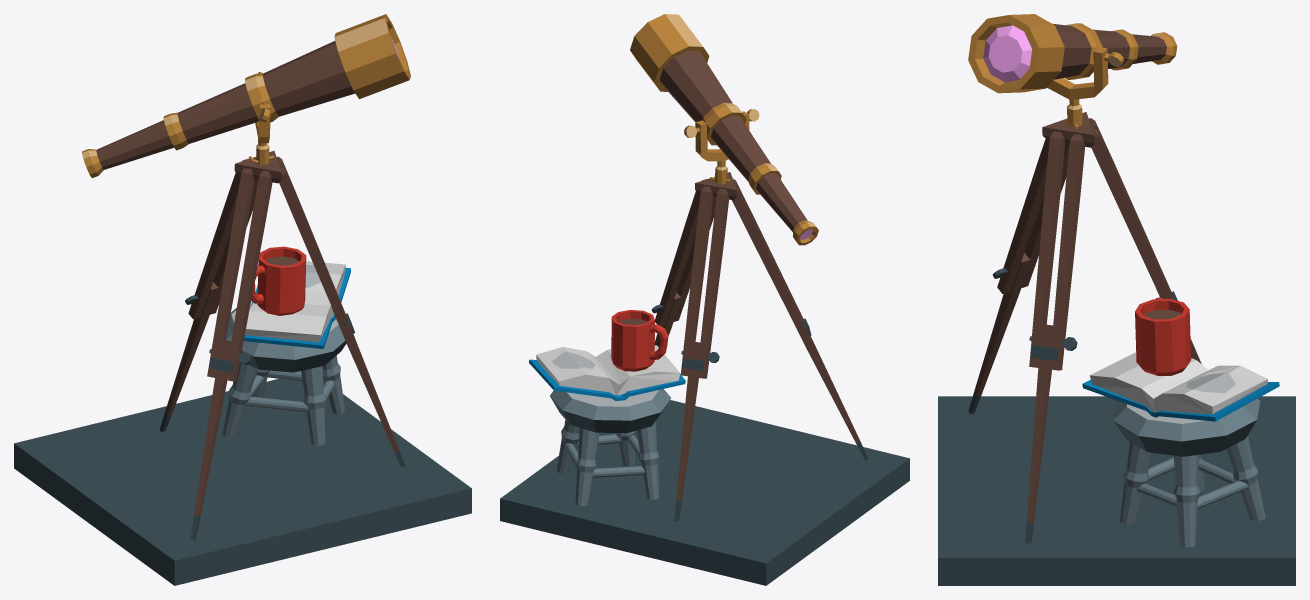
3 views of the same model, side by side, from view 1: azimuth 30°, elevation 25°; view 2: azimuth 150°, elevation 25°; view 3: azimuth 270°, elevation 25° (orthographic). The views are drawn at different scales.
Visible parts, largest first — view 1: node_MeshObject-380765184-PolyPaper20; view 2: node_MeshObject-380765184-PolyPaper20; view 3: node_MeshObject-380765184-PolyPaper20, node_MeshObject191313920-PolyGem25.
Part boxes in pixels (x1,y1,x2,y2): node_MeshObject-380765184-PolyPaper20: (14,14,471,585); node_MeshObject-380765184-PolyPaper20: (500,14,909,585); node_MeshObject-380765184-PolyPaper20: (938,14,1295,585); node_MeshObject191313920-PolyGem25: (983,25,1032,82).
Size of the model in its own units: 1.26 by 1.94 by 1.16.
